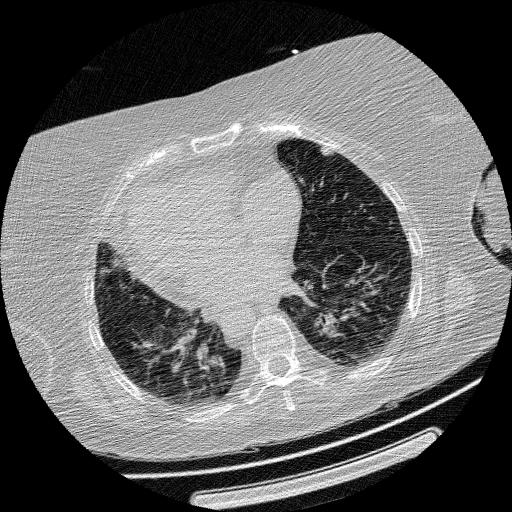nodule: (318, 140, 338, 160)
